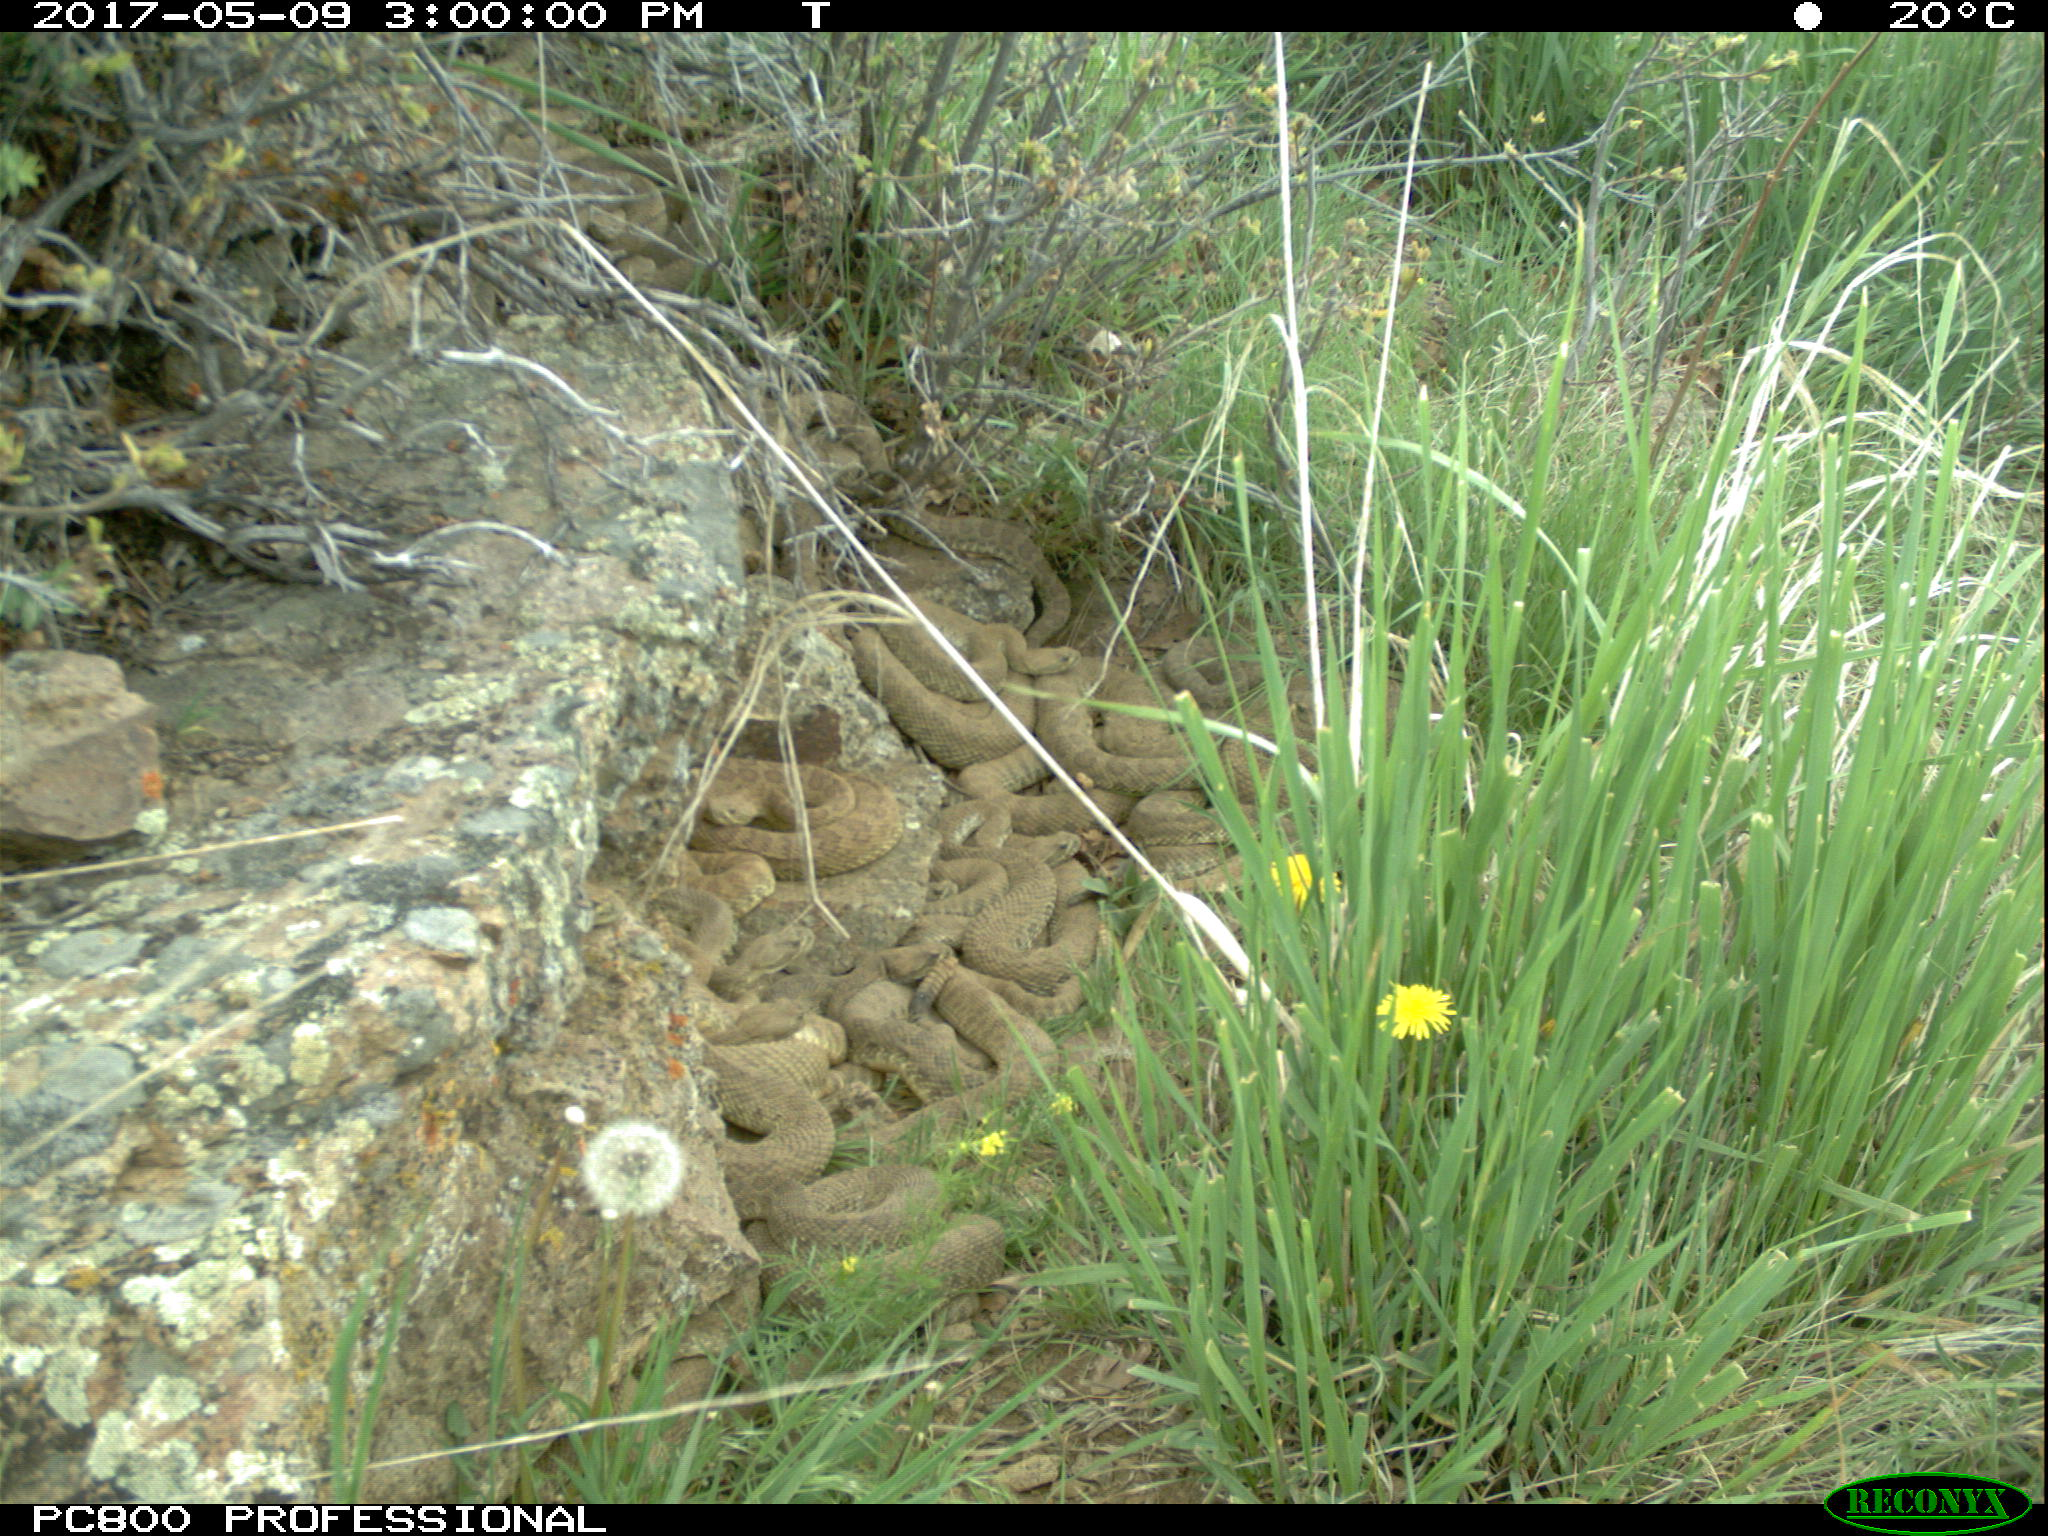snake: (663, 883, 860, 1192), (861, 925, 1064, 1136), (860, 599, 1090, 762), (772, 1152, 1019, 1304), (1056, 663, 1319, 799), (927, 787, 1108, 970), (884, 505, 1085, 650), (698, 765, 916, 883), (1116, 766, 1279, 892), (614, 1299, 751, 1426), (574, 179, 718, 289), (777, 381, 903, 494)
